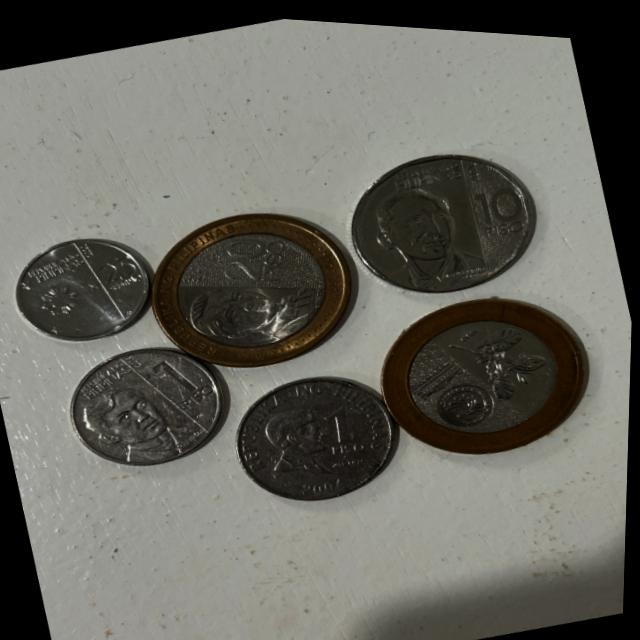10_New_Front: (456, 161, 540, 245)
1_New_Front: (141, 338, 217, 410)
1_Old_Front: (306, 385, 383, 467)
20_New_Back: (442, 298, 556, 409)
20_New_Front: (198, 211, 313, 299)
25Cent_New_Front: (88, 239, 154, 302)
